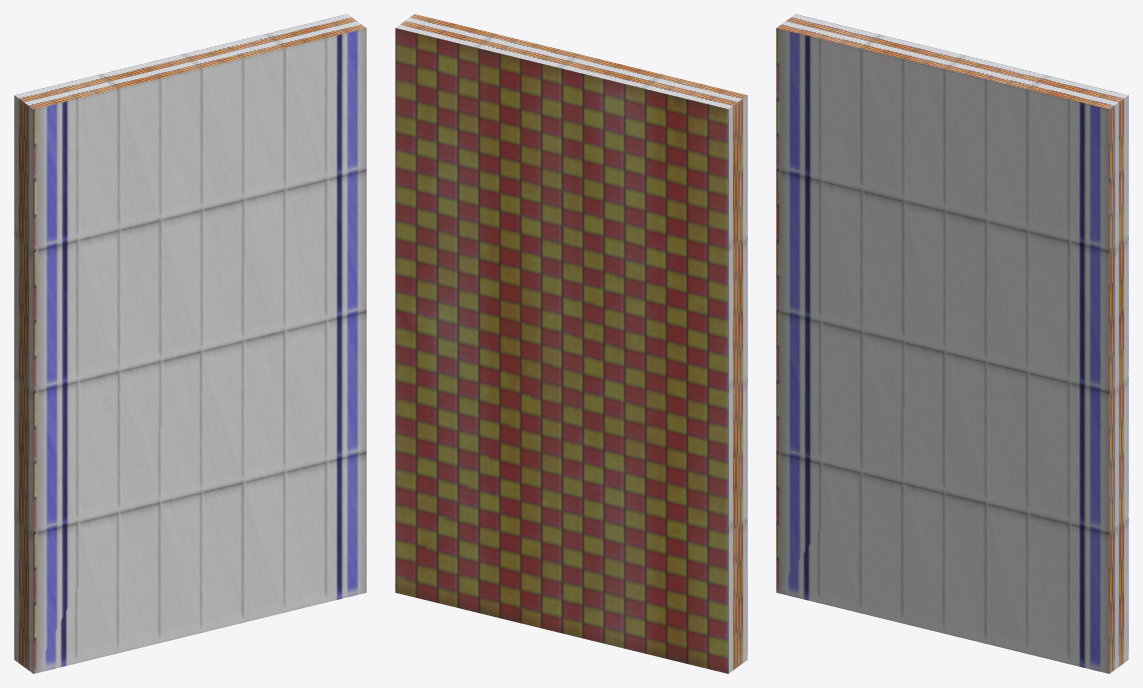
Rendered from wall.obj.
3 renders of one model, left to right at view 1: azimuth 30°, elevation 25°; view 2: azimuth 150°, elevation 25°; view 3: azimuth 330°, elevation 25°, orthographic.
Size of the model in its own units: 2 by 3.24 by 0.2.
Materials: 1 (1 with a texture image).
